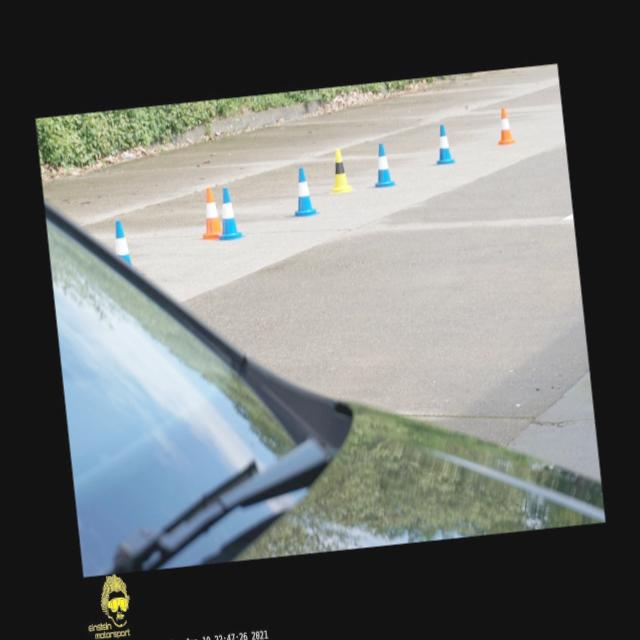blue_cone: (214, 187, 242, 240), (290, 166, 317, 216), (370, 142, 394, 188), (112, 220, 132, 269), (432, 124, 454, 164)
orange_cone: (197, 187, 222, 239), (494, 106, 514, 144)
yellow_cone: (327, 147, 353, 192)
